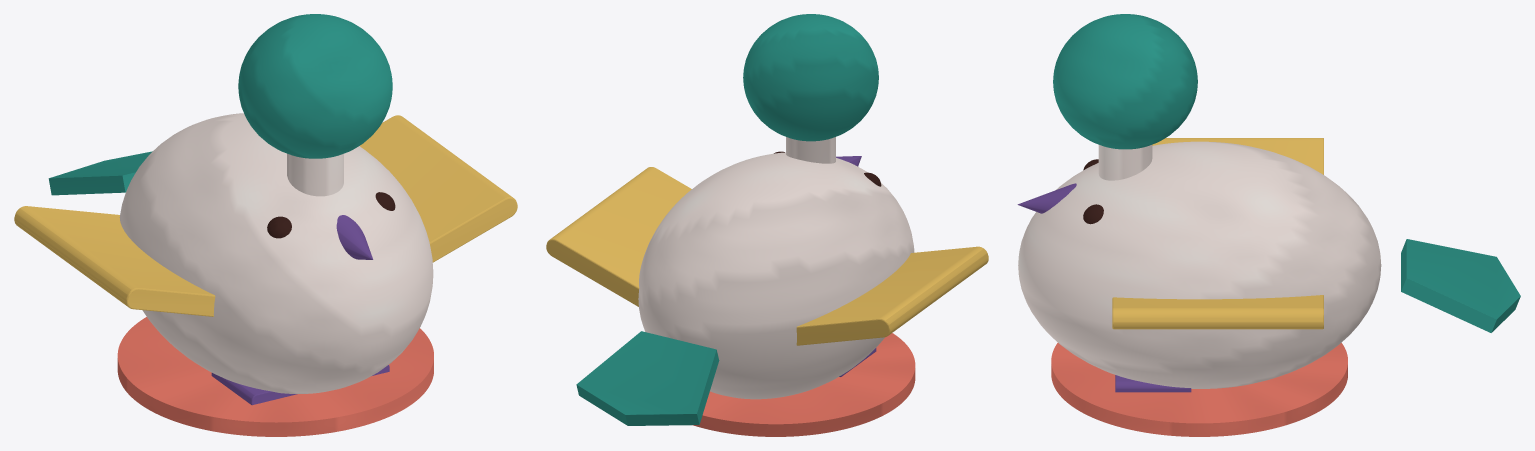
The model's file is 0153_恐龙图鉴_似鸵龙.glb.
3 renders of one model, left to right at view 1: azimuth 30°, elevation 25°; view 2: azimuth 150°, elevation 25°; view 3: azimuth 270°, elevation 25°, orthographic. The views are drawn at different scales.
Parts seen in each view (by area): view 1: card_0153; view 2: card_0153; view 3: card_0153.
Boxes of the visible parts, x1,y1,x2,y2 form: card_0153: (14,14,517,436); card_0153: (546,14,988,436); card_0153: (1017,14,1520,436).
Bounding box in the file's own units: 1.08 × 1 × 1.29.
